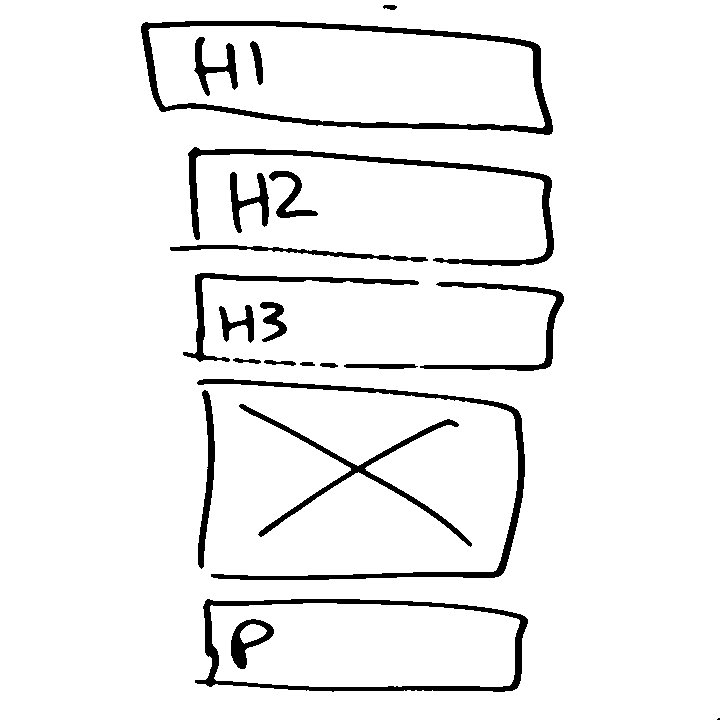heading1: (133, 19, 562, 145)
heading2: (171, 140, 558, 267)
heading3: (182, 268, 569, 380)
paragraph: (189, 590, 532, 701)
picture: (187, 373, 534, 594)
